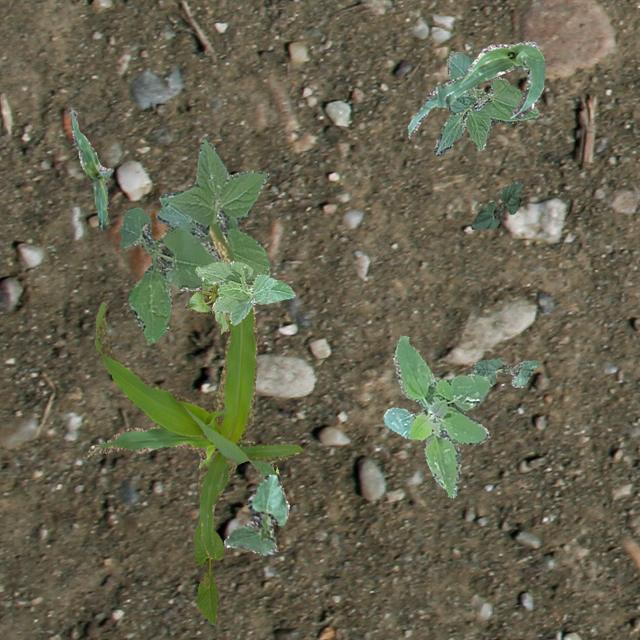crop: (92, 222, 302, 558), (406, 39, 544, 138), (433, 51, 538, 156), (84, 426, 278, 478), (194, 260, 294, 324), (222, 472, 288, 554), (68, 108, 112, 230), (192, 520, 222, 624), (471, 180, 522, 228), (184, 278, 228, 332), (470, 356, 538, 386)
weed: (118, 138, 270, 342), (382, 334, 490, 496)
